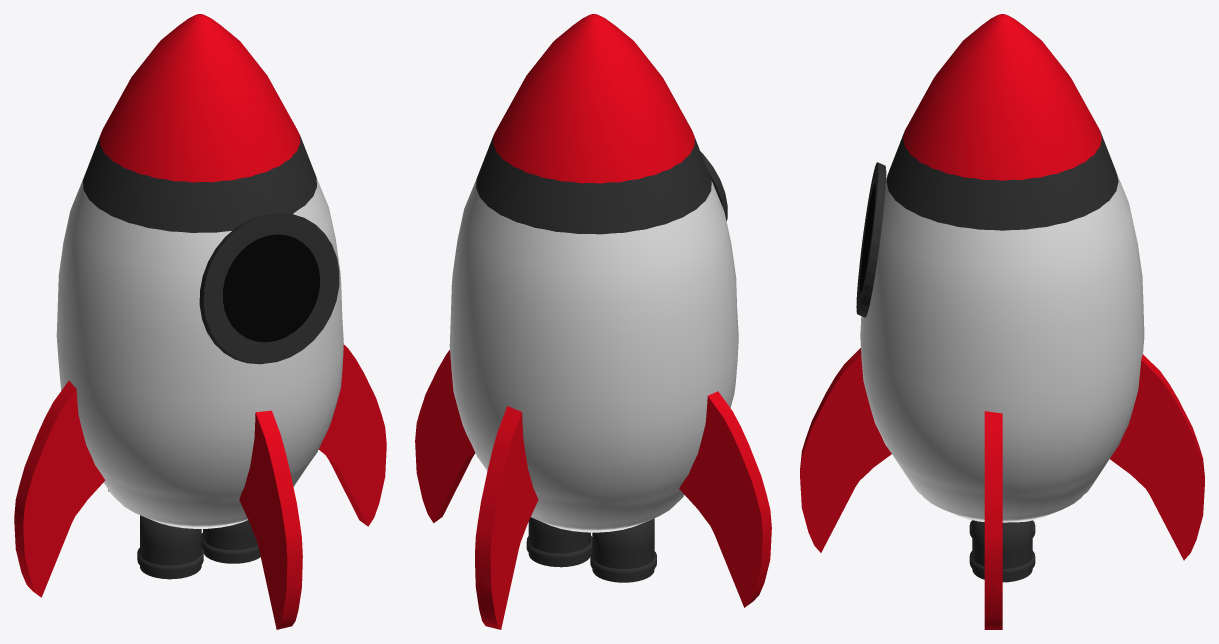
The model's file is rocket.glb.
3 renders of one model, left to right at view 1: azimuth 30°, elevation 25°; view 2: azimuth 150°, elevation 25°; view 3: azimuth 270°, elevation 25°, orthographic.
Visible parts, largest first — view 1: rocket, window, wing2, wing2.001, wing1, engine, engine2; view 2: rocket, wing2, wing1.001, wing1, engine, engine2; view 3: rocket, wing1.001, wing2.001, wing1, engine2, window.
Part boxes in pixels (box(x1,y1,x2,y2)): rocket: box(56, 14, 343, 528); window: box(199, 213, 339, 364); wing2: box(14, 380, 105, 597); wing2.001: box(239, 410, 302, 629); wing1: box(319, 344, 386, 526); engine: box(137, 515, 203, 579); engine2: box(201, 520, 260, 563); rocket: box(449, 14, 738, 532); wing2: box(679, 391, 771, 607); wing1.001: box(475, 406, 538, 629); wing1: box(415, 349, 475, 523); engine: box(590, 518, 656, 582); engine2: box(526, 517, 592, 567); rocket: box(860, 14, 1144, 522); wing1.001: box(1110, 354, 1204, 560); wing2.001: box(800, 348, 891, 552); wing1: box(984, 411, 1002, 629); engine2: box(969, 520, 1035, 582); window: box(856, 162, 886, 317).
Size of the model in its own units: 2.05 by 3.19 by 2.05.
